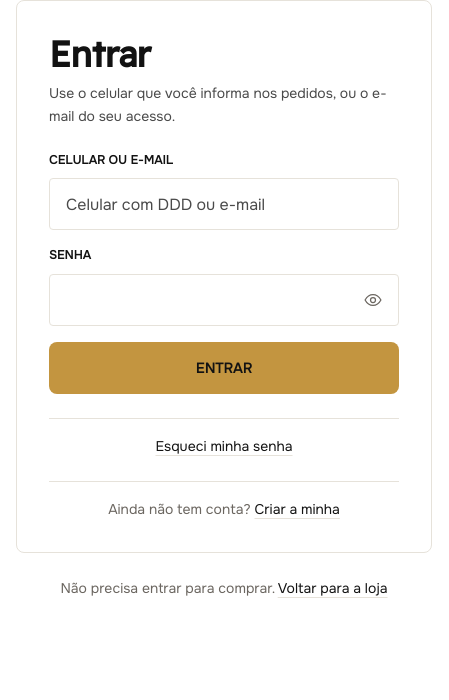
Test: errar o celular rende o conselho sobre DDD
Type "88999998888" into the field labelled "Celular ou e-mail" at (224, 204), box x1=49 y1=178 x2=399 y2=230
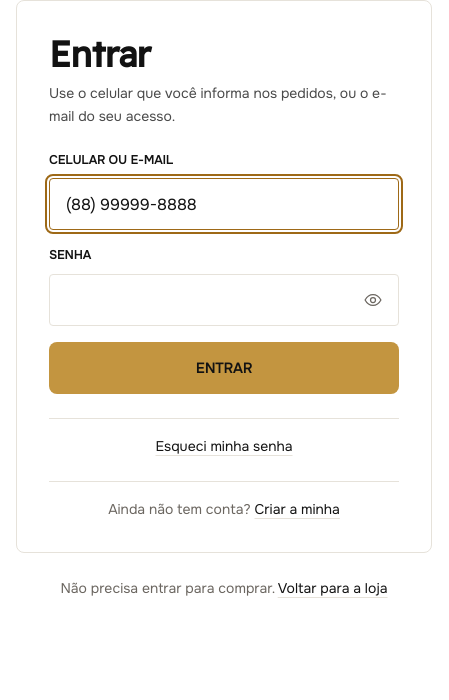
Type "errada" into the password field labelled "Senha" at (224, 300), box x1=49 y1=274 x2=399 y2=326
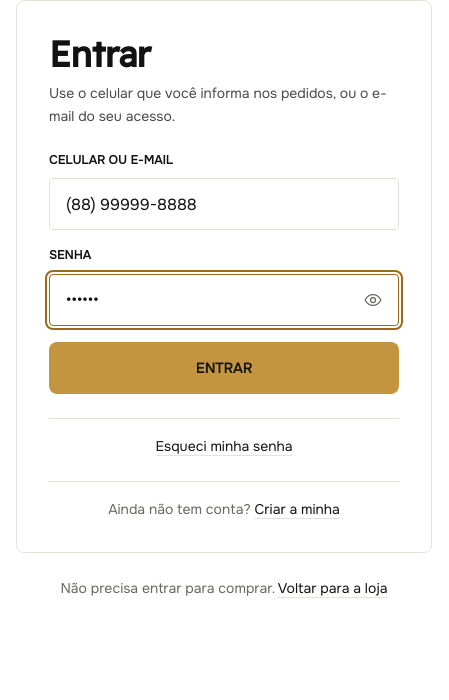
Click the button named "Entrar" at (224, 368), box x1=49 y1=342 x2=399 y2=394
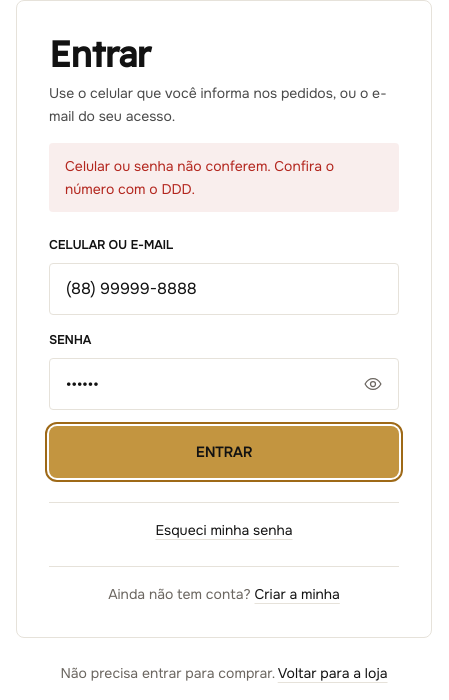
Result: the message shows "Confira o número com o DDD" at x1=65 y1=157 x2=334 y2=198
